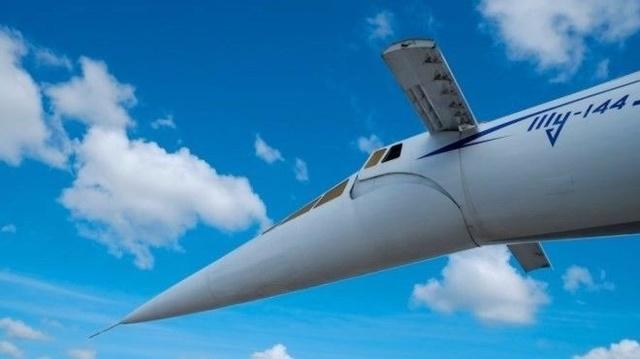airplane: (79, 38, 640, 347)
